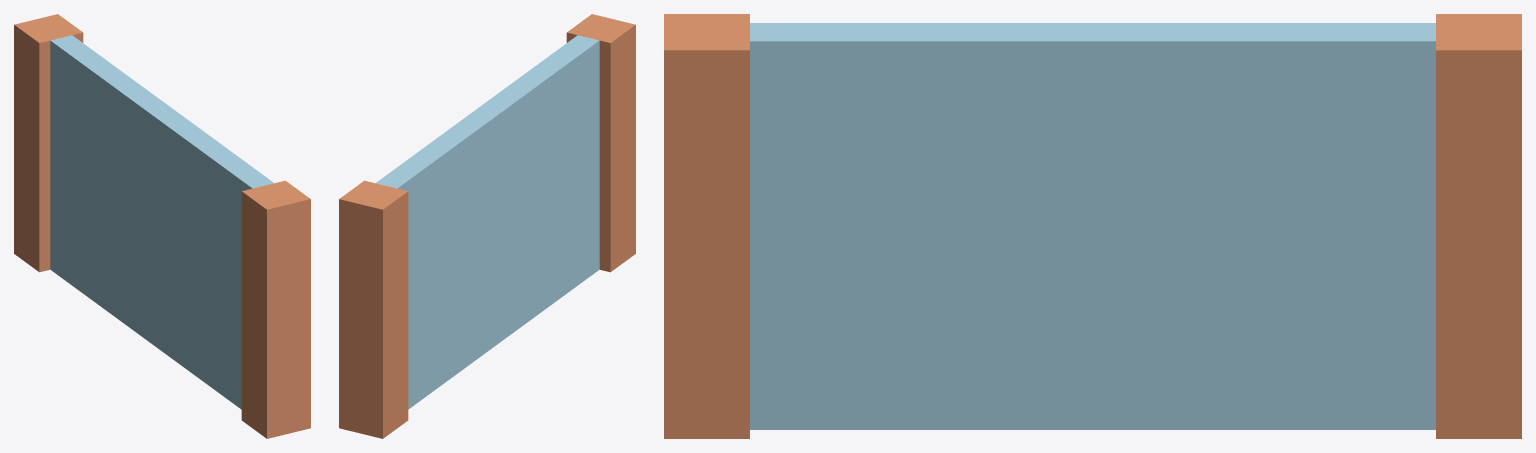
File: wallHalf.glb
3 views of the same model, side by side, from view 1: azimuth 30°, elevation 25°; view 2: azimuth 150°, elevation 25°; view 3: azimuth 270°, elevation 25° (orthographic). The views are drawn at different scales.
Visible parts, largest first — view 1: wallHalf; view 2: wallHalf; view 3: wallHalf.
Part boxes in pixels (x1,y1,x2,y2): wallHalf: [14, 14, 310, 438]; wallHalf: [339, 14, 635, 438]; wallHalf: [664, 14, 1521, 438].
Size of the model in its own units: 0.1 by 0.5 by 1.
